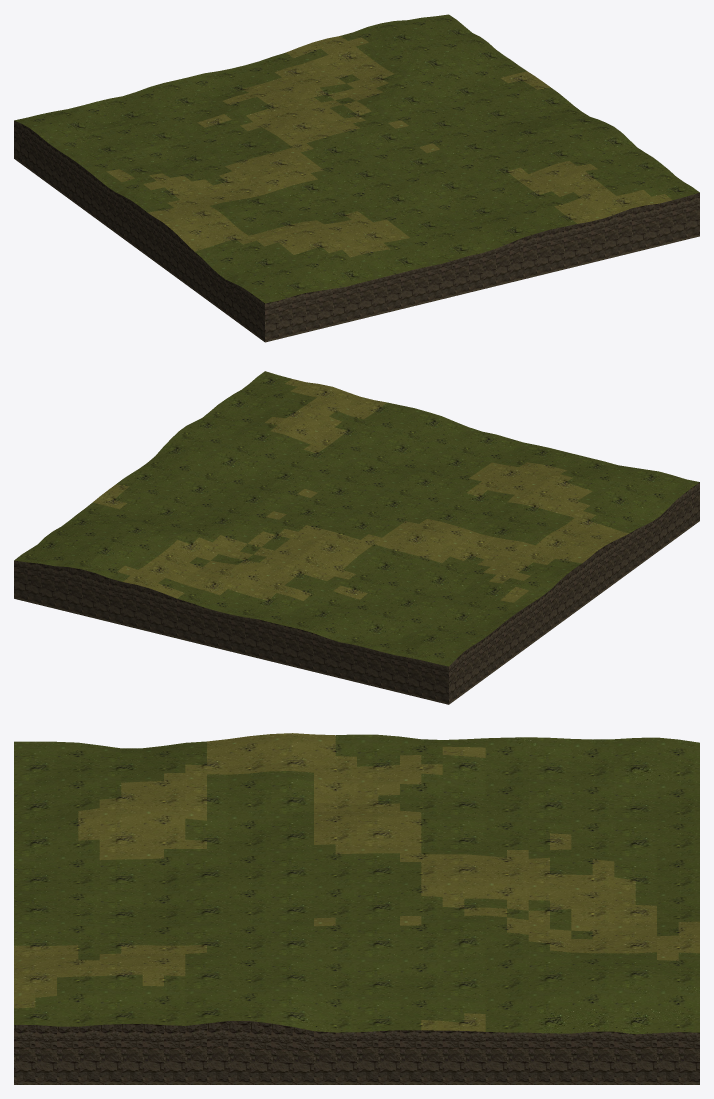
File: meadow_01.glb
3 views of the same model, one above another, from view 1: azimuth 30°, elevation 25°; view 2: azimuth 150°, elevation 25°; view 3: azimuth 270°, elevation 25° (orthographic). The views are drawn at different scales.
Visible parts, largest first — view 1: meadow_01; view 2: meadow_01; view 3: meadow_01.
Part boxes in pixels (x1,y1,x2,y2): meadow_01: [14, 14, 699, 342]; meadow_01: [14, 371, 699, 704]; meadow_01: [14, 733, 699, 1084].
Size of the model in its own units: 16 by 1.69 by 16.
Materials: 3 (3 with a texture image).
